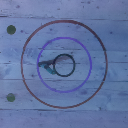Axe Tip: (47, 62, 55, 65)
